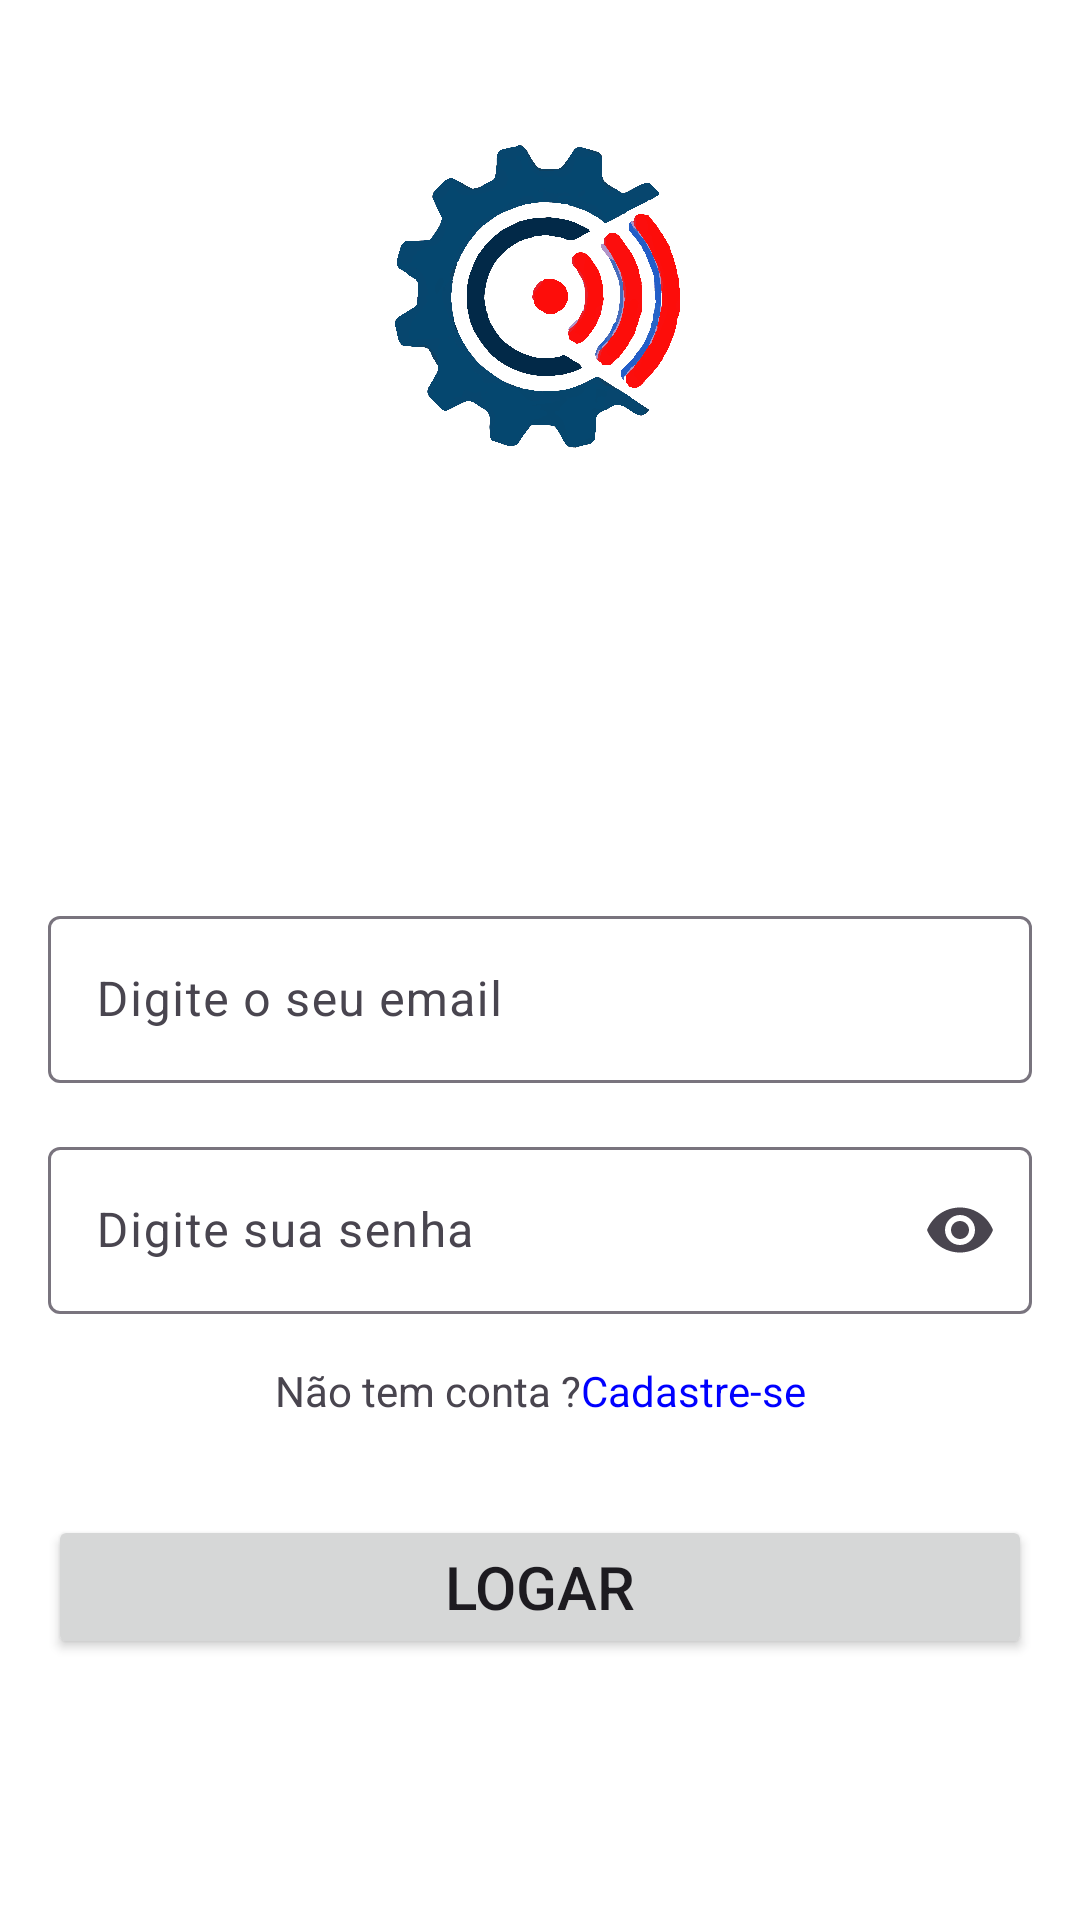

Where to tap for icons on this 1080 × 1920 app screen, as point (x, y):
engrenagem: point (537, 296)
